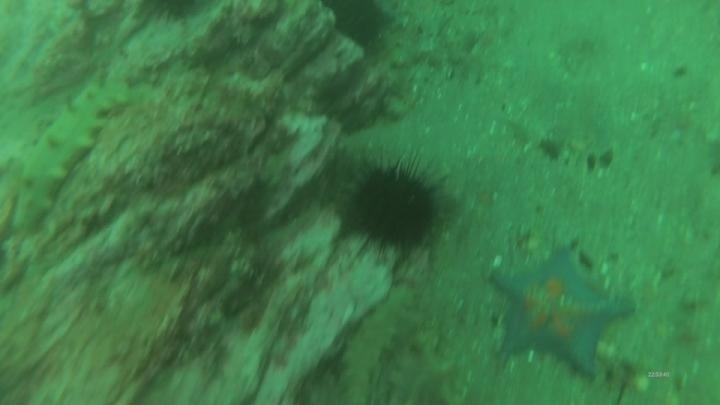echinus: (340, 156, 447, 260), (322, 1, 391, 53), (131, 1, 220, 29)
holothurian: (6, 76, 129, 233), (334, 285, 421, 405)
starfish: (488, 240, 637, 380)
